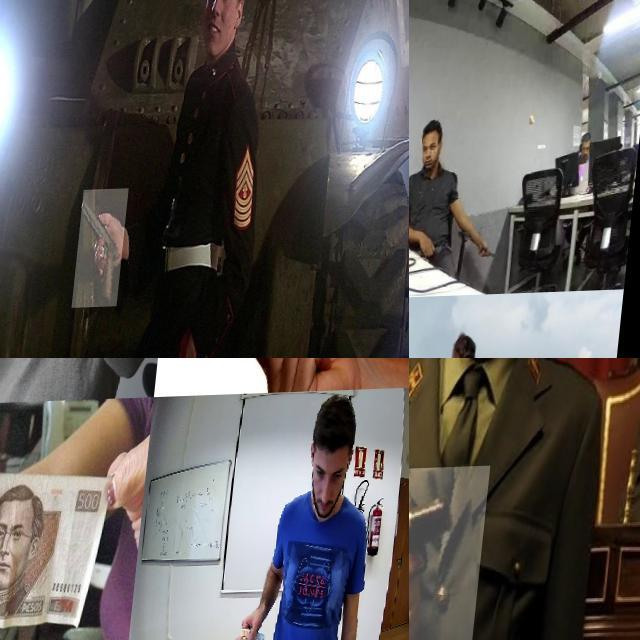-: (482, 248, 506, 267), (409, 251, 421, 277)
gun-knife-thesis - v11 Yolov5 augmented: (409, 467, 498, 640), (84, 190, 138, 310)
